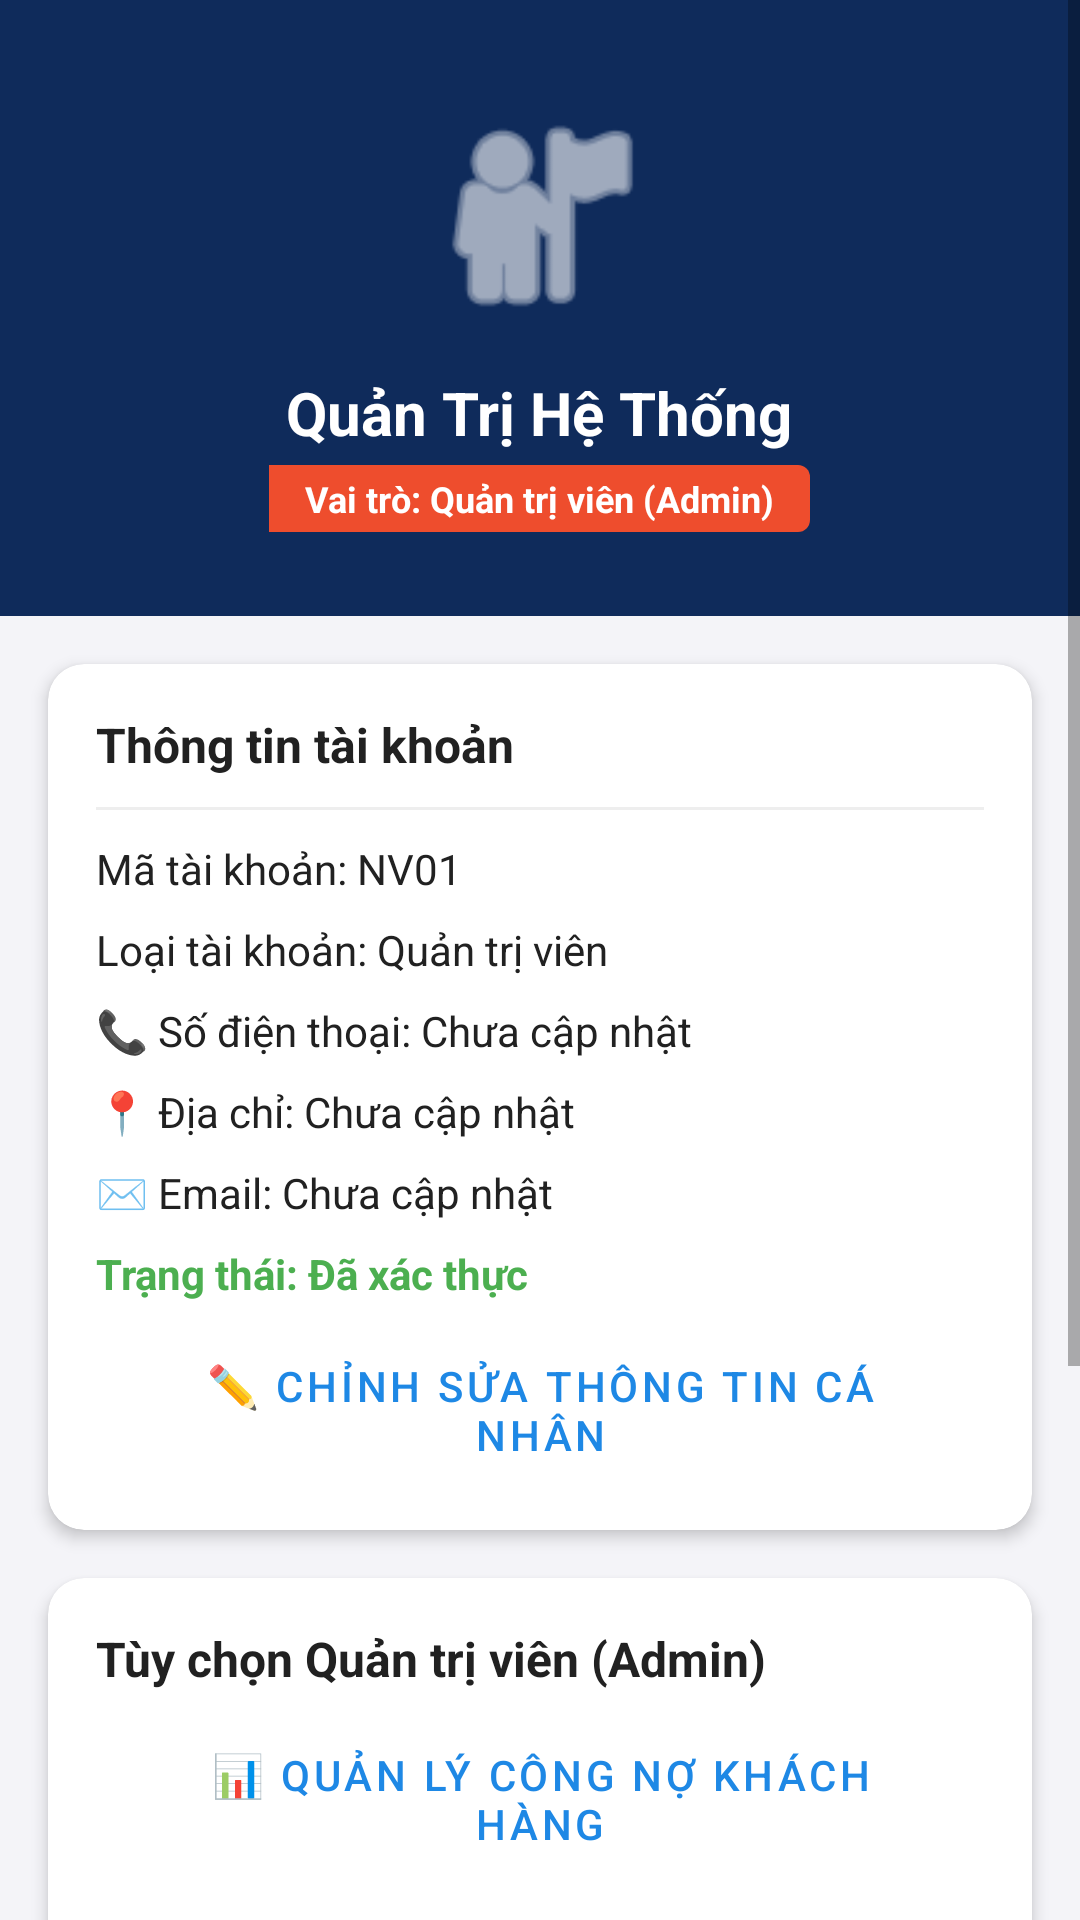

Named icons in this screenshot (1080 x 1920) and their centers, [x,y]:
myplaces: [542,216]
